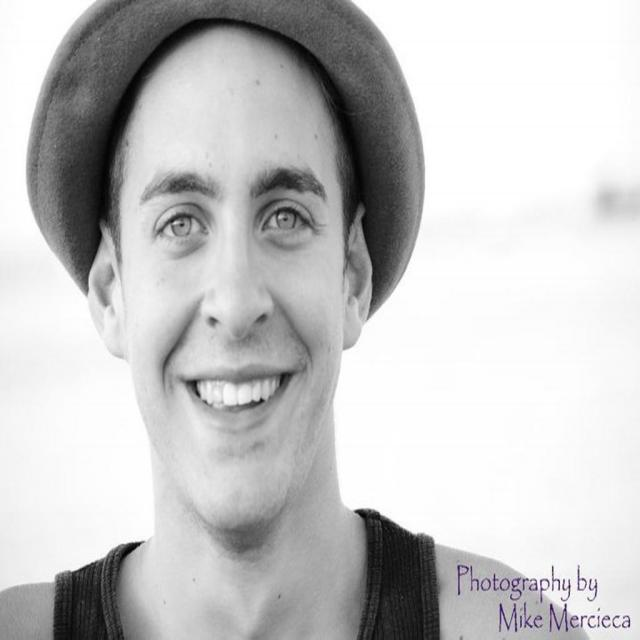nomask: (118, 22, 344, 530)
